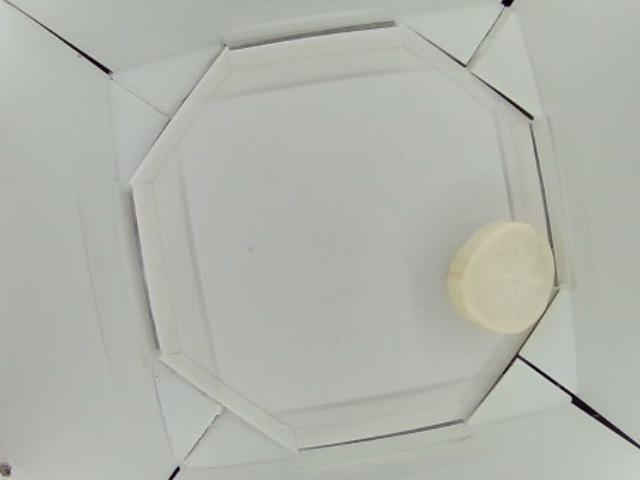Mooli: (447, 223, 560, 333)
